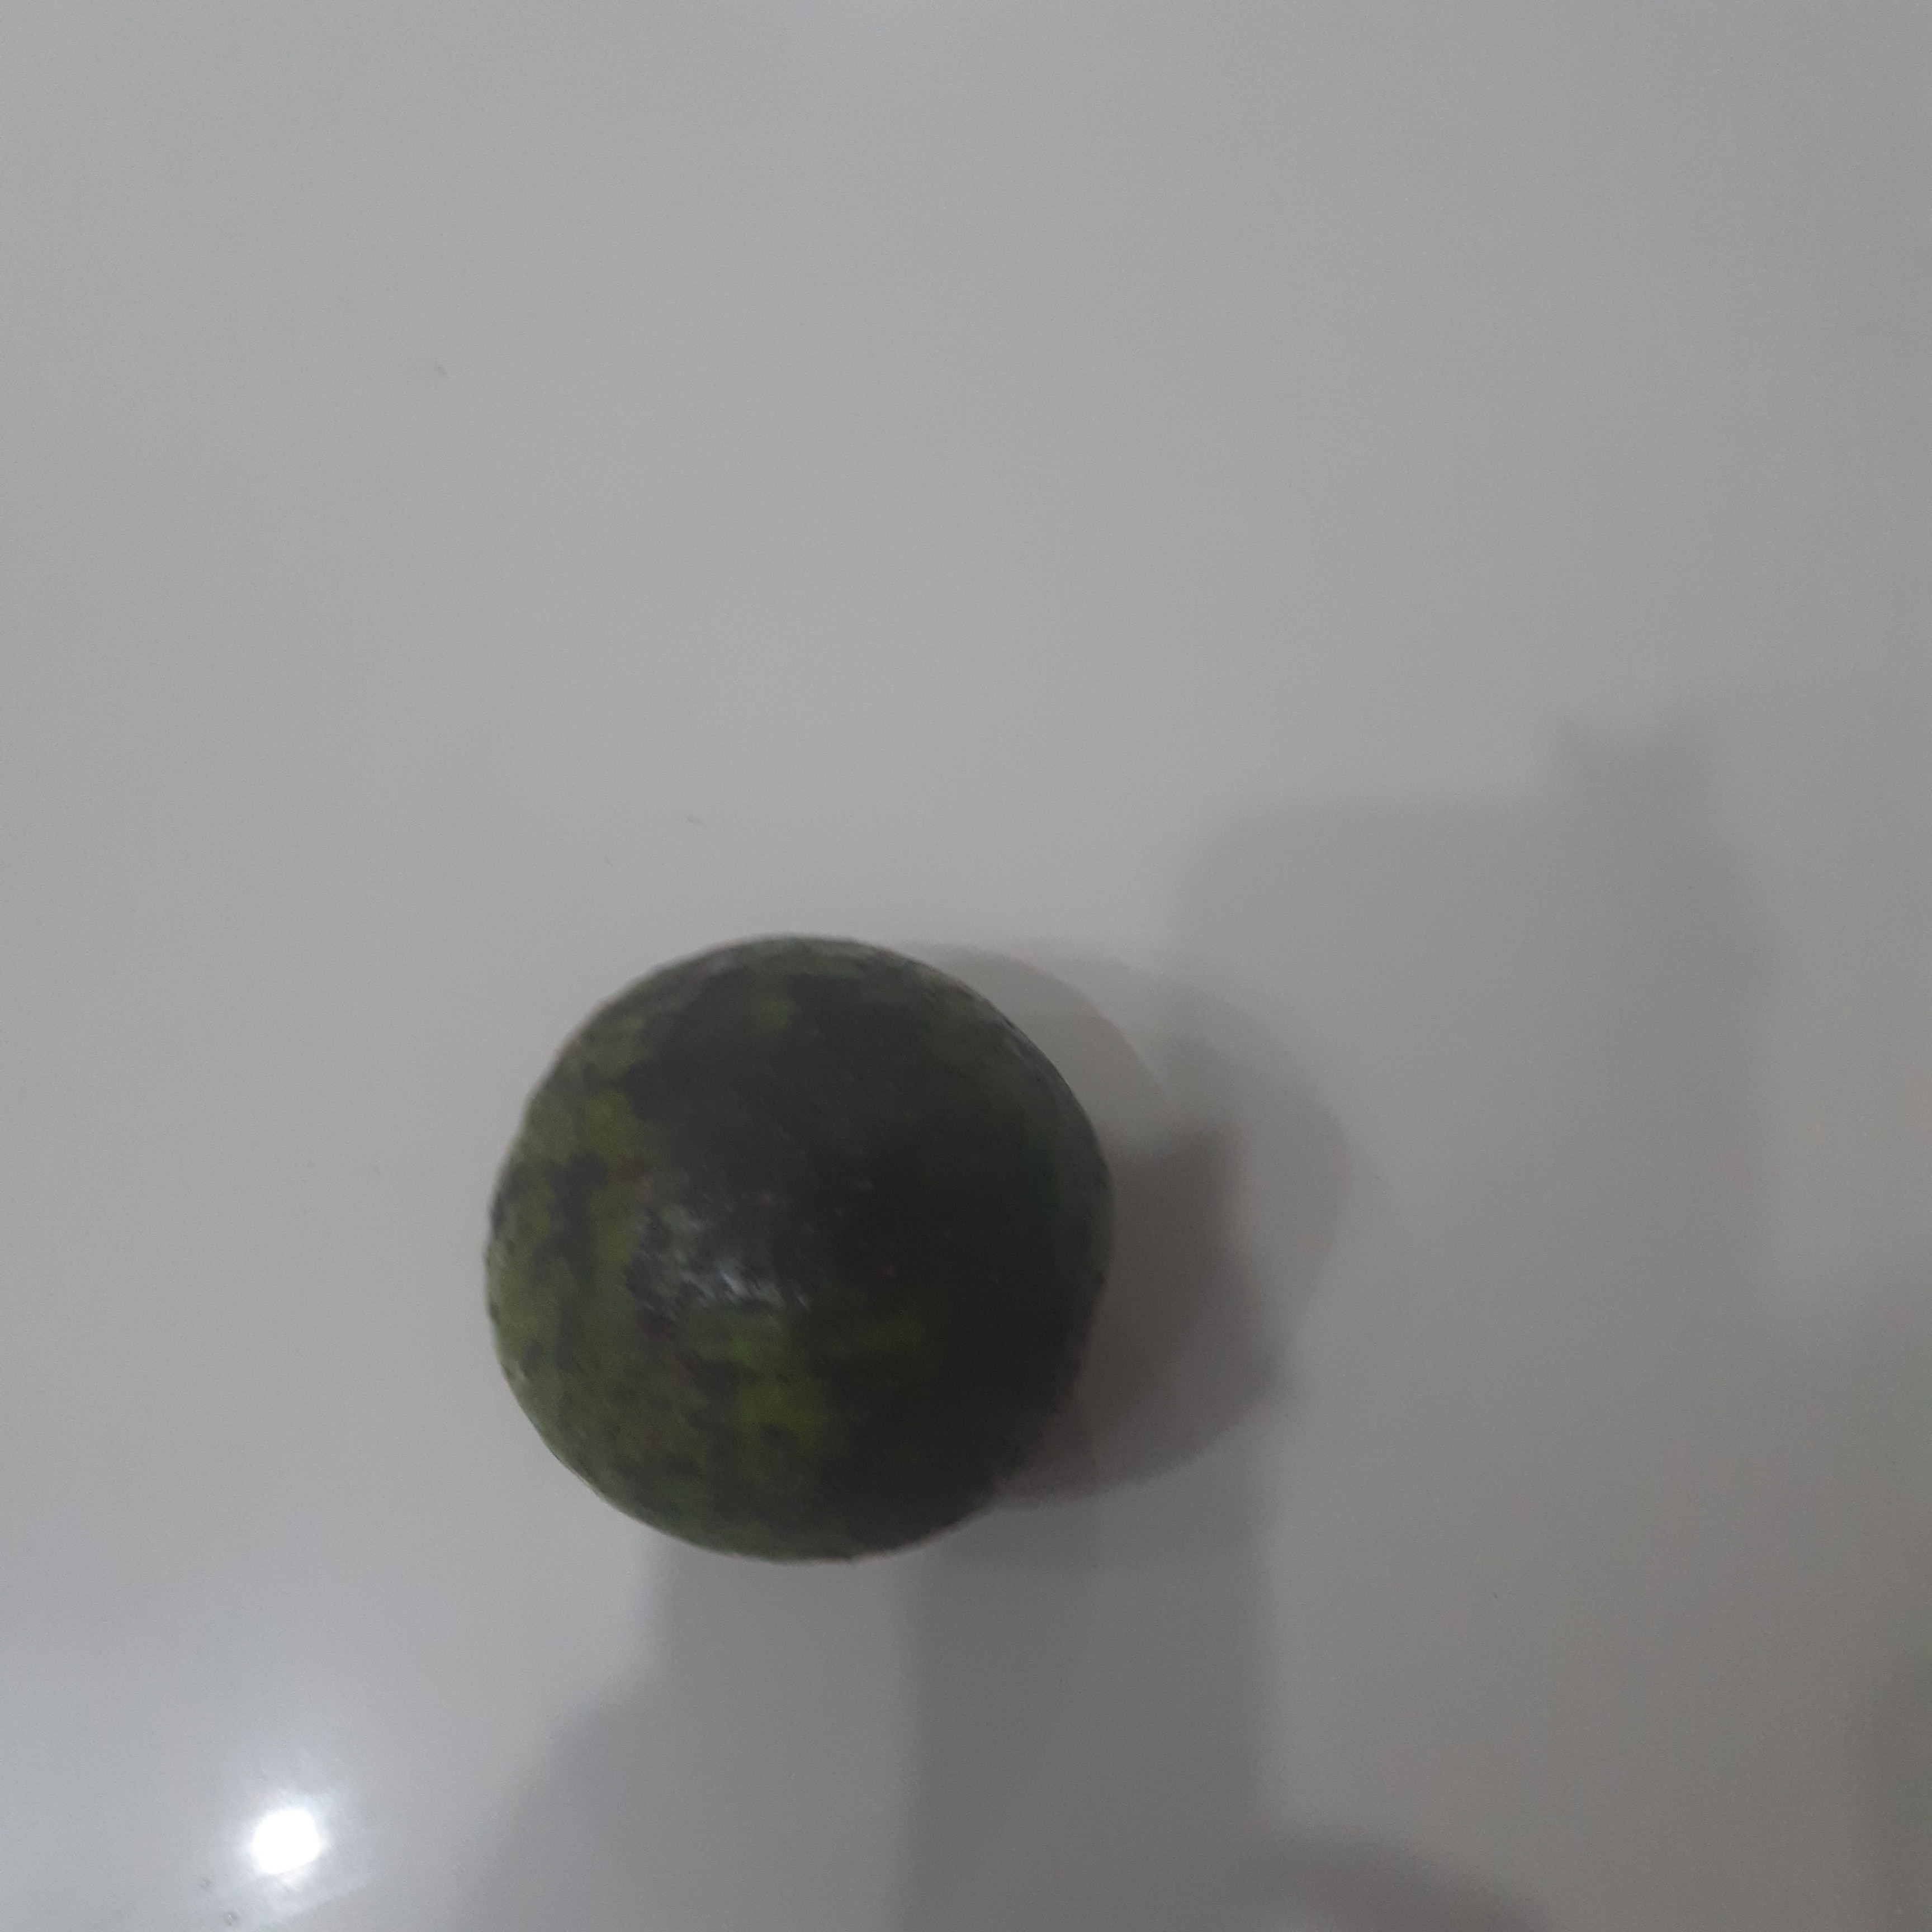Bo: (483, 936, 1115, 1569)
